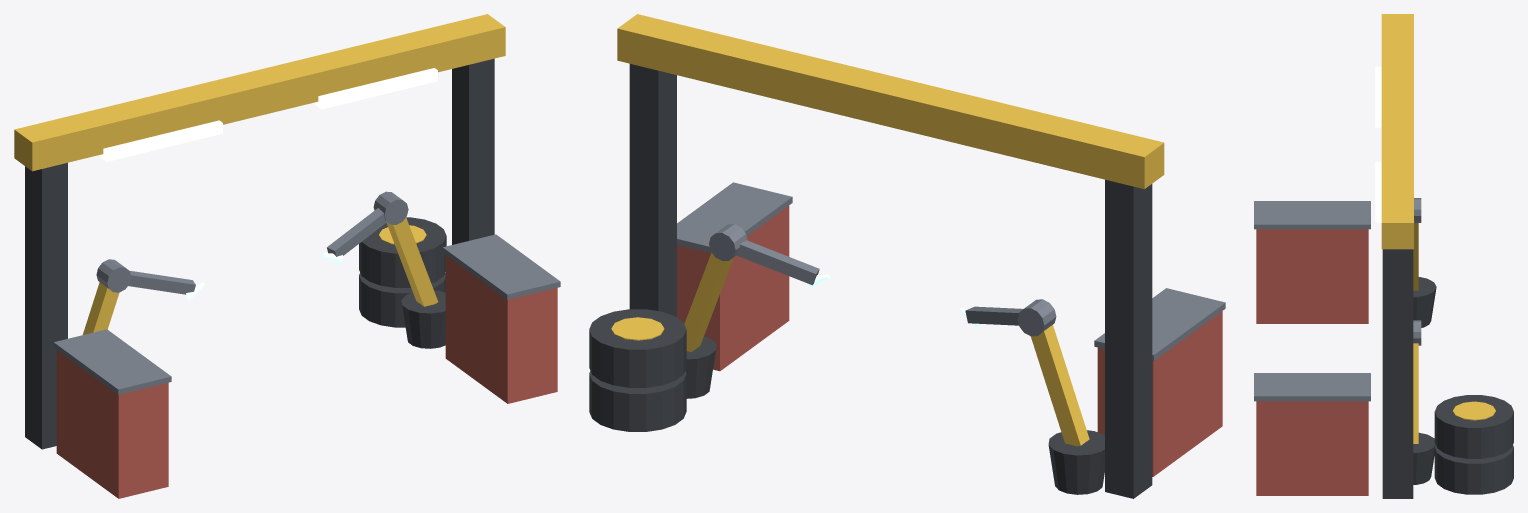
Rendered from prop_workshop_bay.glb.
3 renders of one model, left to right at view 1: azimuth 30°, elevation 25°; view 2: azimuth 150°, elevation 25°; view 3: azimuth 270°, elevation 25°, orthographic. The views are drawn at different scales.
Visible parts, largest first — view 1: CraneBridgeBeam, ToolCabinetR, ToolCabinetL, CraneLegL, CraneLegR, ToolBenchTopL, ToolBenchTopR, SpareWheel_1, SpareWheel_0, WelderPedestalR, WelderLowerBoomR, CraneFloodBarL (+6 smaller); view 2: CraneBridgeBeam, CraneLegL, CraneLegR, ToolCabinetR, ToolCabinetL, SpareWheel_1, SpareWheel_0, ToolBenchTopR, ToolBenchTopL, WelderLowerBoomL, WelderPedestalL, WelderLowerBoomR (+6 smaller); view 3: ToolCabinetL, ToolCabinetR, CraneLegR, CraneBridgeBeam, SpareWheel_1, ToolBenchTopL, ToolBenchTopR, SpareWheel_0, WelderPedestalR, WelderPedestalL, SpareRim_1, WelderLowerBoomR (+3 smaller).
Boxes of the visible parts, <box> form: CraneBridgeBeam: <box>14,14,505,171</box>; ToolCabinetR: <box>445,255,557,403</box>; ToolCabinetL: <box>56,350,168,498</box>; CraneLegL: <box>25,162,67,449</box>; CraneLegR: <box>452,58,494,244</box>; ToolBenchTopL: <box>53,329,171,394</box>; ToolBenchTopR: <box>442,234,560,299</box>; SpareWheel_1: <box>359,217,446,287</box>; SpareWheel_0: <box>359,272,445,327</box>; WelderPedestalR: <box>401,290,445,348</box>; WelderLowerBoomR: <box>386,217,438,306</box>; CraneFloodBarL: <box>99,120,222,161</box>; CraneBridgeBeam: <box>617,14,1164,189</box>; CraneLegL: <box>1105,179,1152,498</box>; CraneLegR: <box>629,64,676,317</box>; ToolCabinetR: <box>677,205,789,371</box>; ToolCabinetL: <box>1097,311,1222,476</box>; SpareWheel_1: <box>589,309,686,387</box>; SpareWheel_0: <box>589,371,686,431</box>; ToolBenchTopR: <box>677,182,792,252</box>; ToolBenchTopL: <box>1094,288,1225,360</box>; WelderLowerBoomL: <box>1031,325,1089,446</box>; WelderPedestalL: <box>1048,430,1104,494</box>; WelderLowerBoomR: <box>684,252,733,351</box>; ToolCabinetL: <box>1256,229,1368,323</box>; ToolCabinetR: <box>1256,401,1368,495</box>; CraneLegR: <box>1382,249,1413,498</box>; CraneBridgeBeam: <box>1381,14,1413,249</box>; SpareWheel_1: <box>1434,395,1513,458</box>; ToolBenchTopL: <box>1254,201,1370,229</box>; ToolBenchTopR: <box>1254,373,1370,401</box>; SpareWheel_0: <box>1434,445,1513,494</box>; WelderPedestalR: <box>1413,432,1435,484</box>; WelderPedestalL: <box>1413,277,1436,327</box>; SpareRim_1: <box>1453,401,1495,420</box>; WelderLowerBoomR: <box>1413,343,1418,443</box>.
Bounding box in the file's own units: 5.5 × 3.44 × 2.89.
